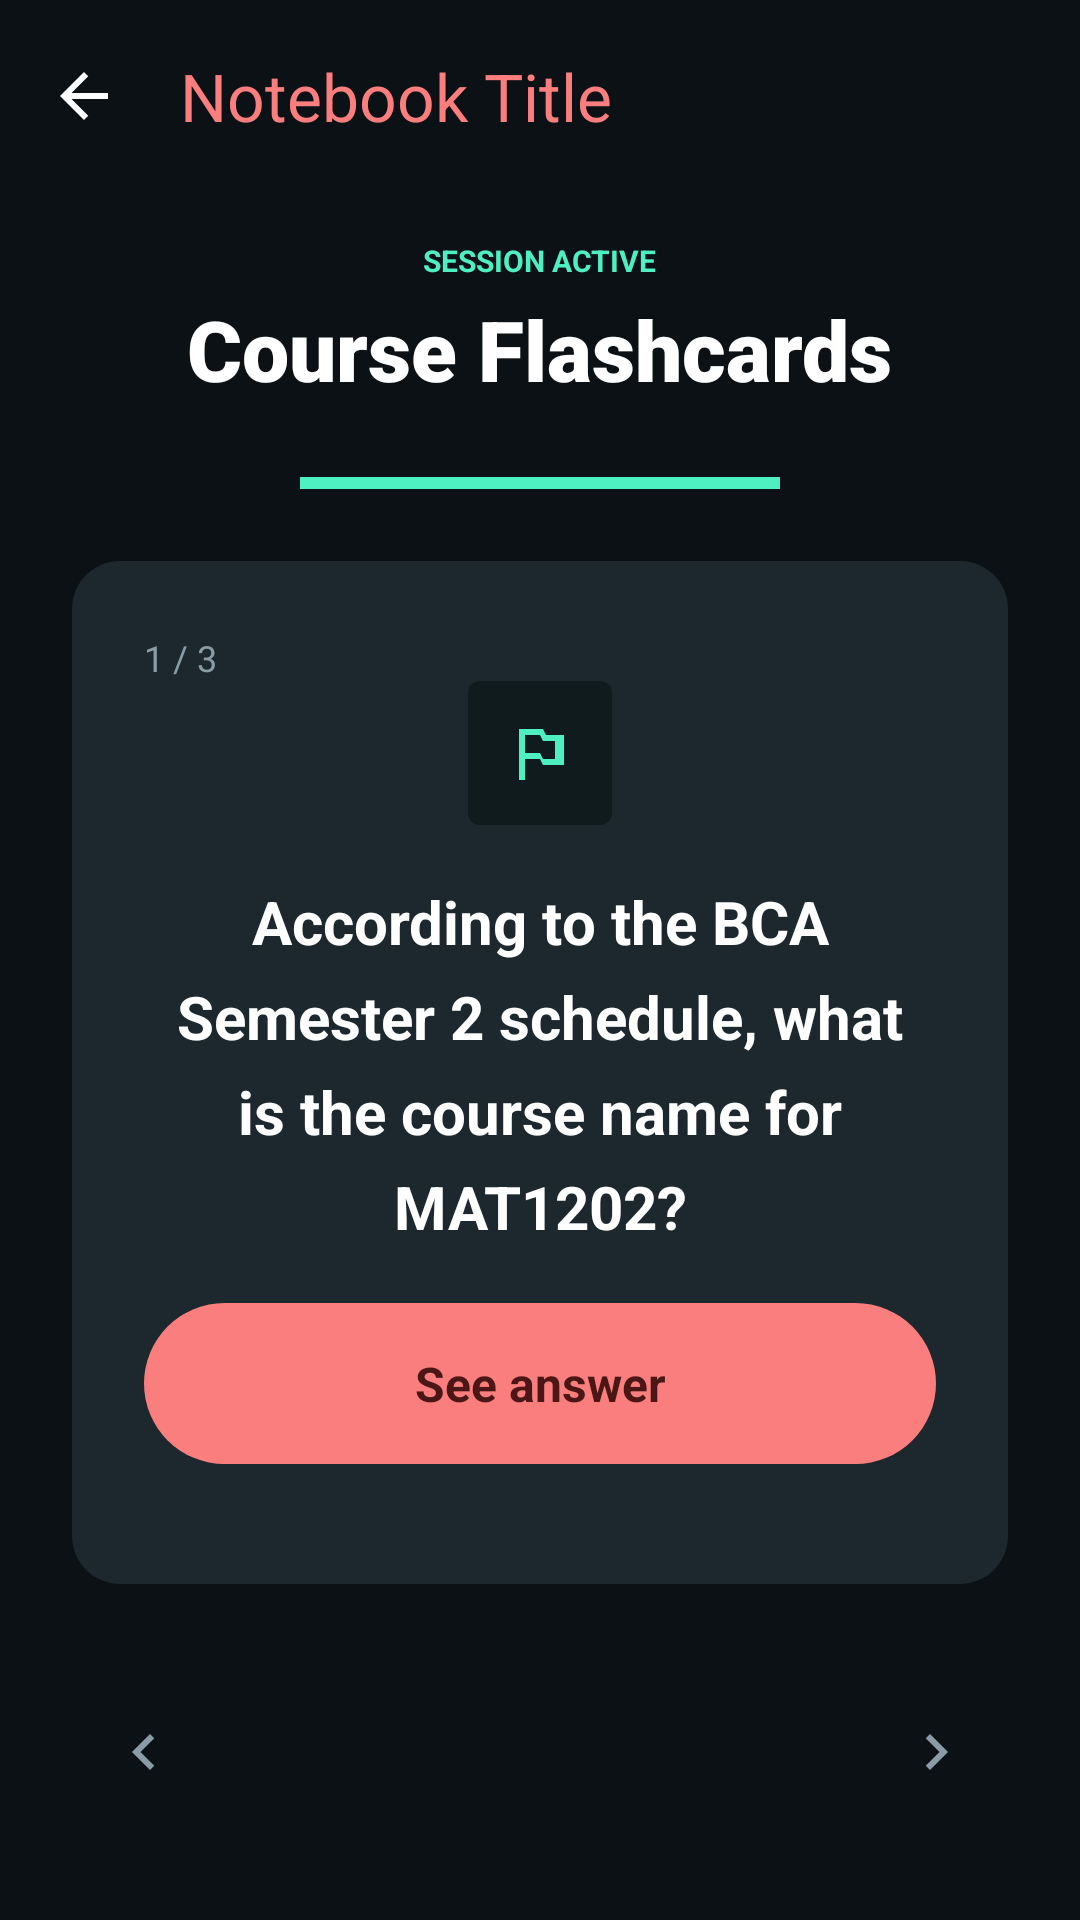

Icons on this 1080x1920 Android screen, each with its box as [x1,y1,x2,y2]:
chevron left: [132,1734,154,1770]
chevron right: [926,1734,948,1770]
